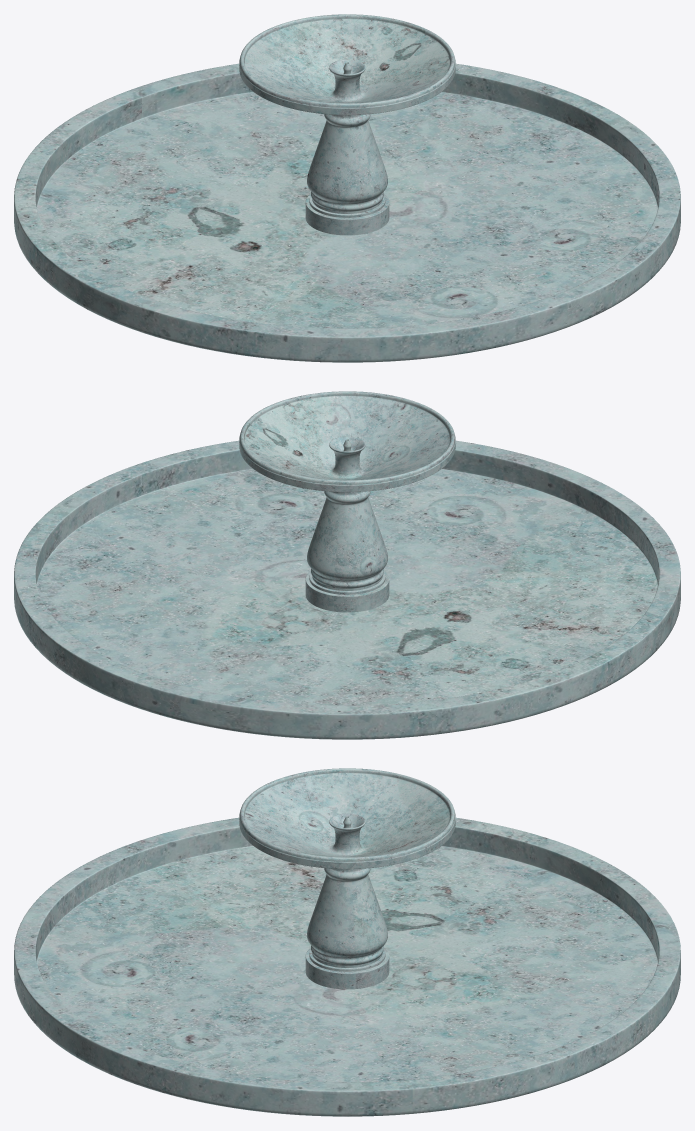
Rendered from Fountain.obj.
The picture shows the model from 3 angles, top to bottom: view 1: azimuth 30°, elevation 25°; view 2: azimuth 150°, elevation 25°; view 3: azimuth 270°, elevation 25°; orthographic projection.
Visible parts, largest first — view 1: Circle.002, Circle.001; view 2: Circle.002, Circle.001; view 3: Circle.002, Circle.001.
Part boxes in pixels (bbox=[...]): Circle.002: bbox=[14, 63, 680, 362]; Circle.001: bbox=[239, 14, 455, 235]; Circle.002: bbox=[14, 440, 680, 739]; Circle.001: bbox=[239, 391, 455, 612]; Circle.002: bbox=[14, 817, 680, 1116]; Circle.001: bbox=[239, 768, 455, 989].
Bounding box in the file's own units: 22 × 5.96 × 22.
1 material, 1 textured.
